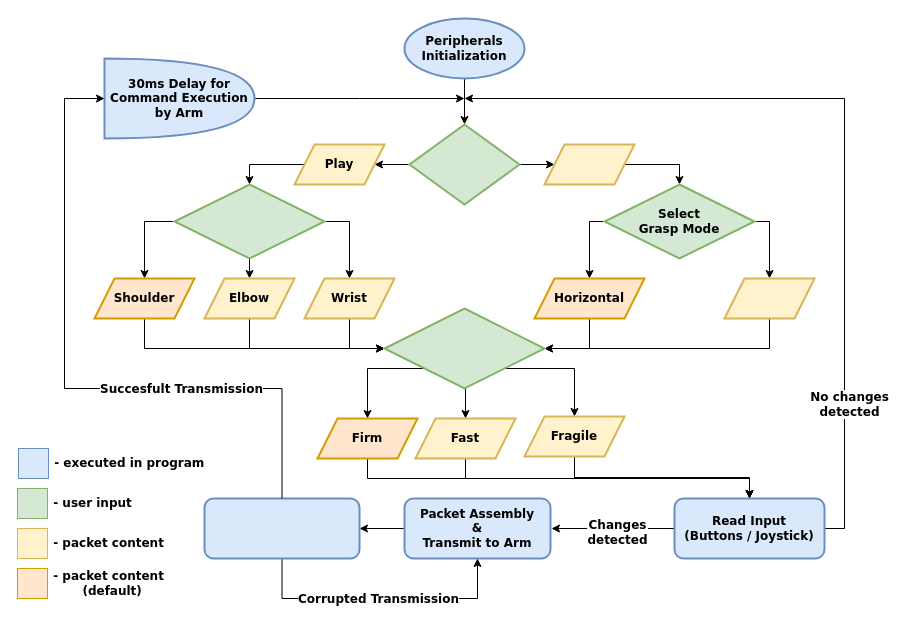
This 906x625 diagram has some shape labels left out. Each missing label, with the centre of its shape:
"Select Arm Link" belongs at point 249,221.
"Select Grasp Intensity" belongs at point 464,348.
"Select Mode" belongs at point 464,164.
"Vertical" belongs at point 769,298.
"Wait for Acknowledge Packet" belongs at point 281,528.
"Work" belongs at point 589,164.
